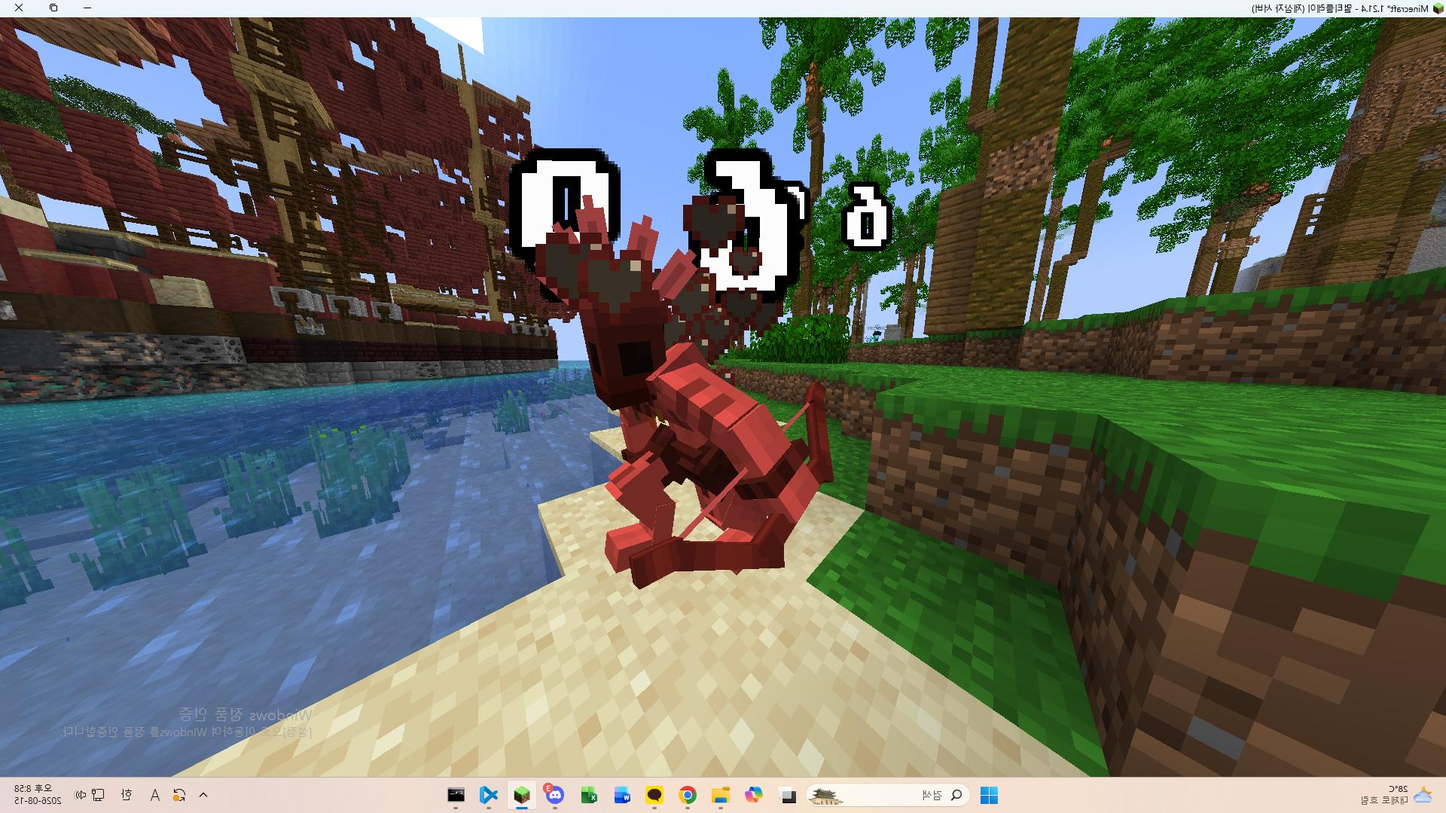bow_indian: (502, 196, 888, 613)
